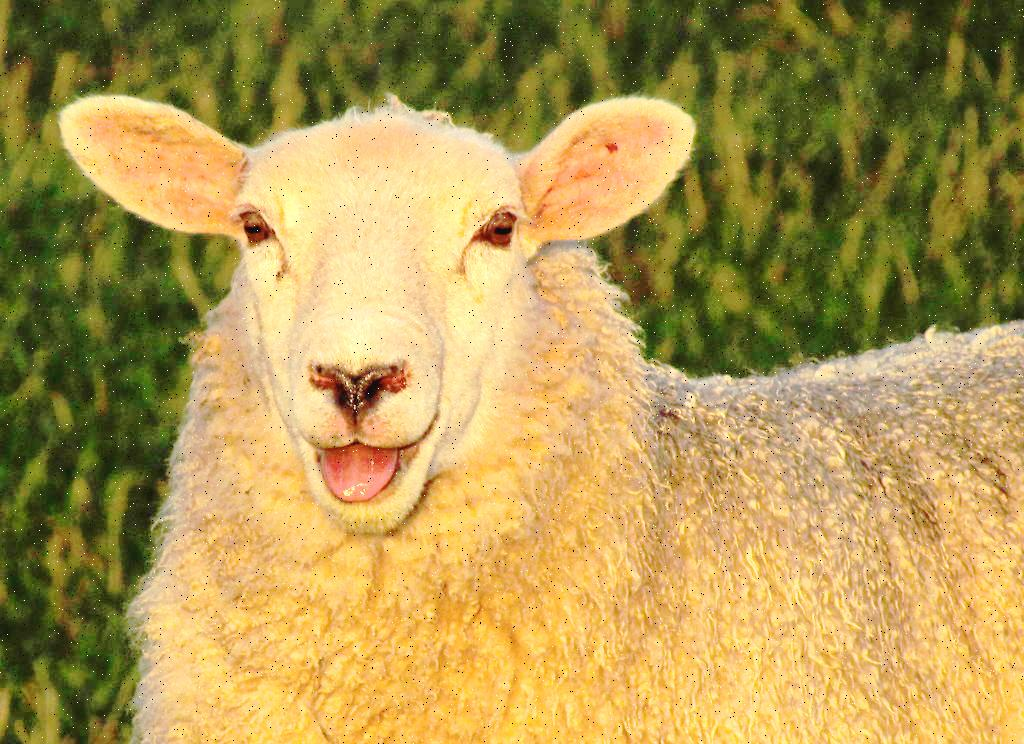Sheep: (50, 85, 1024, 742)
